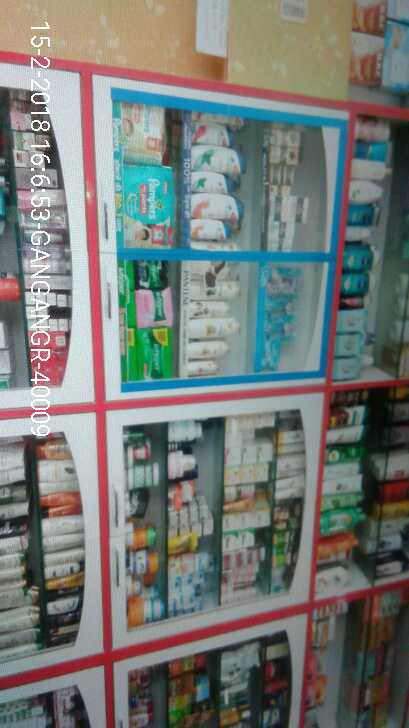venus: (264, 268, 300, 306), (259, 307, 300, 332), (259, 332, 276, 375)
